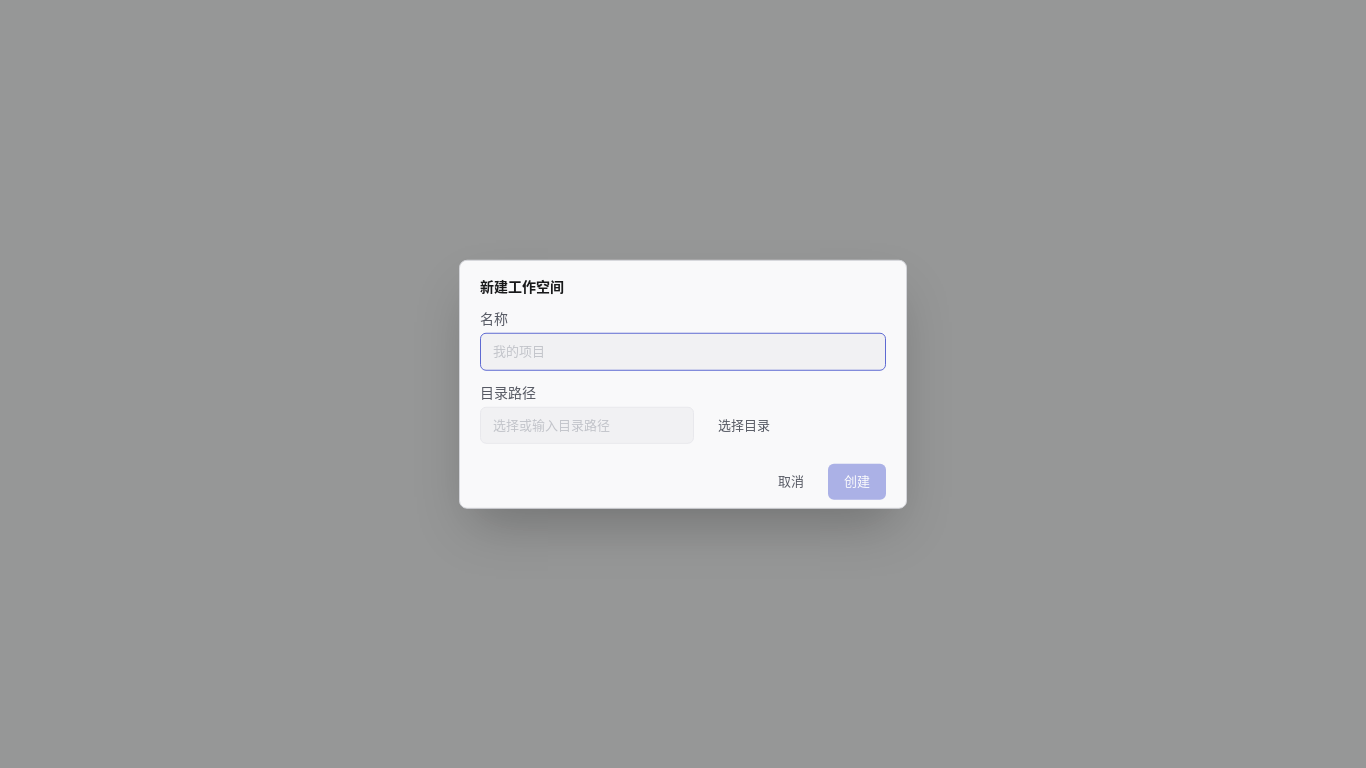
Test case: CreateWorkspaceDialog › 点击「选择目录」触发 dialog.pickDirectory 并回填路径
Click the button "选择目录": (744, 425) [702,406,786,444]
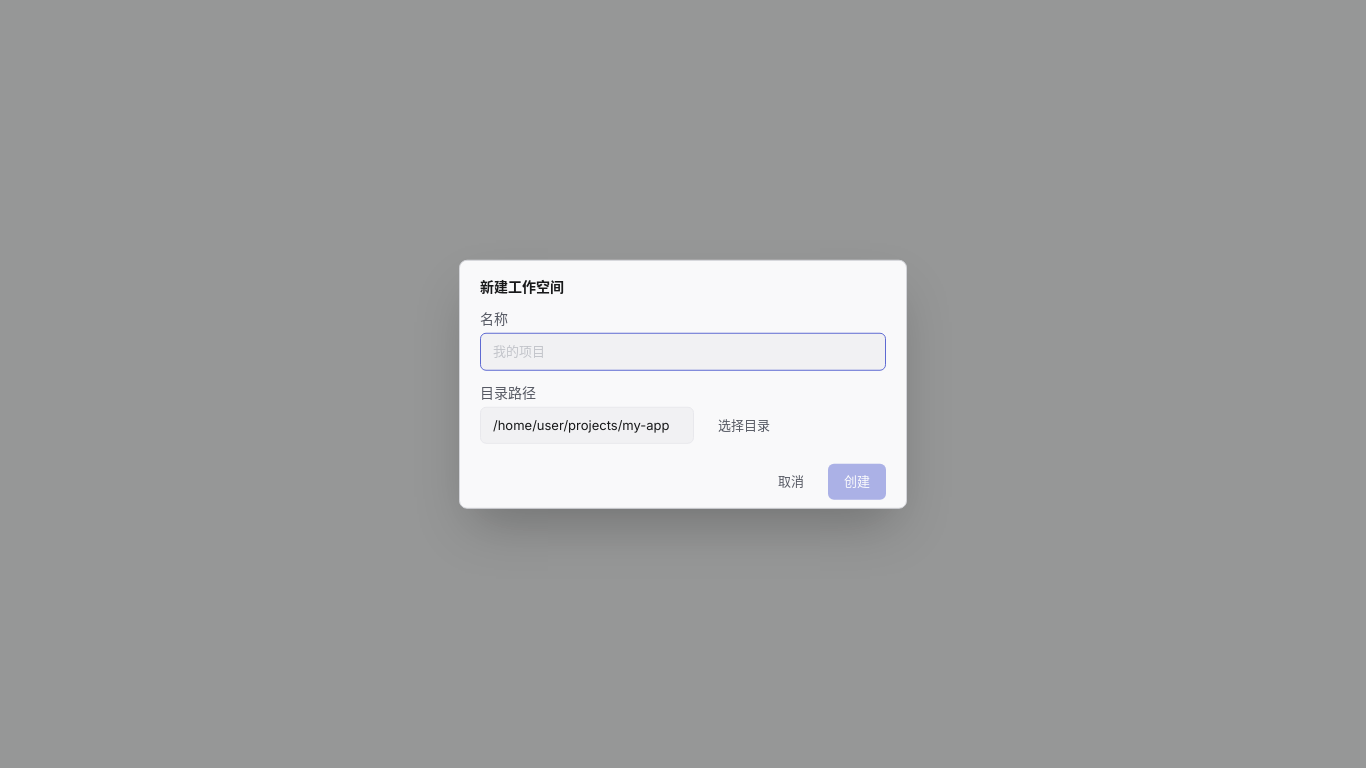
Check: the field with placeholder "选择或输入目录路径" holds "/home/user/projects/my-app", box [480,406,694,444]
